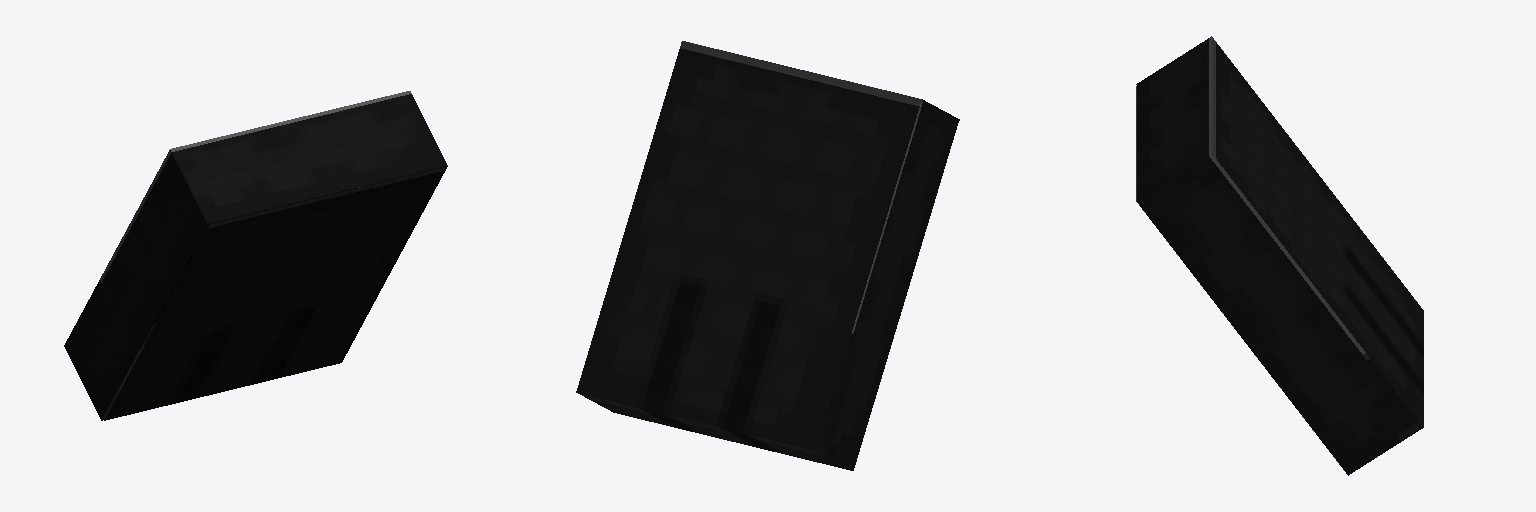
3 renders of one model, left to right at view 1: azimuth 30°, elevation 25°; view 2: azimuth 150°, elevation 25°; view 3: azimuth 270°, elevation 25°, orthographic.
Visible parts, largest first — view 1: Enderdragon_Malla; view 2: Enderdragon_Malla; view 3: Enderdragon_Malla.
Boxes of the visible parts, box(x1,y1,x2,y2) form: Enderdragon_Malla: box(64, 91, 447, 420); Enderdragon_Malla: box(576, 41, 959, 470); Enderdragon_Malla: box(1136, 36, 1423, 475).
Size of the model in its own units: 2.86 by 3.67 by 2.97.
Materials: 1 (1 with a texture image).